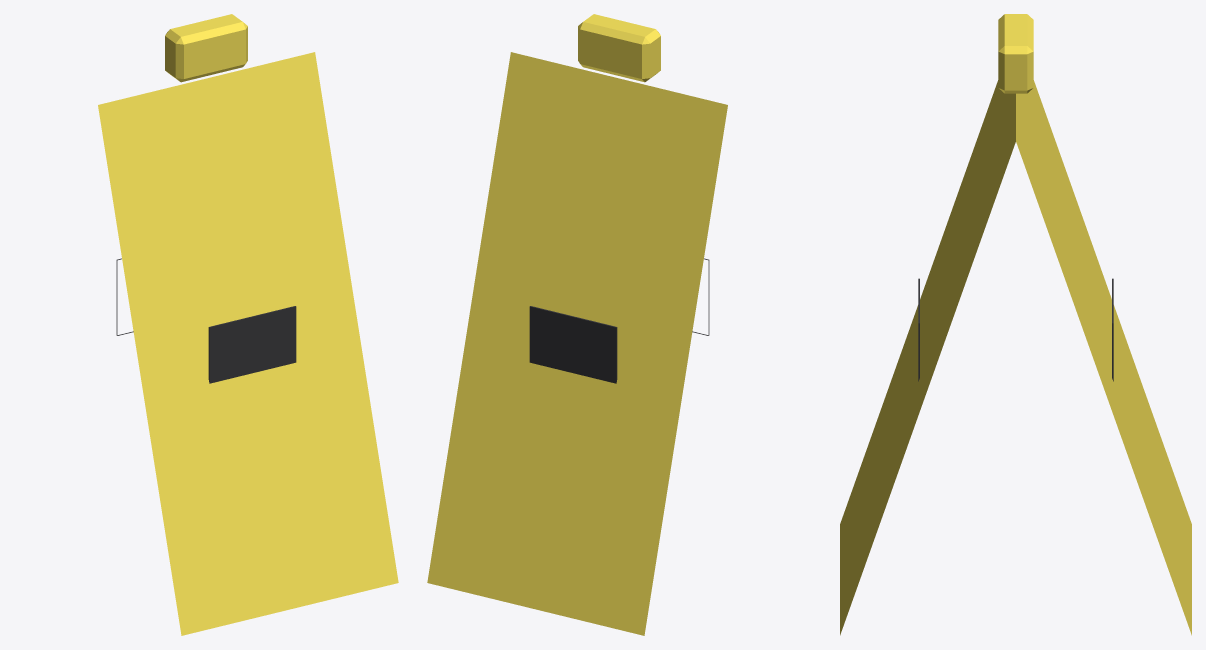
File: wet_floor_sign.glb
3 views of the same model, side by side, from view 1: azimuth 30°, elevation 25°; view 2: azimuth 150°, elevation 25°; view 3: azimuth 270°, elevation 25° (orthographic). The views are drawn at different scales.
Parts seen in each view (by area): view 1: wet_floor_sign; view 2: wet_floor_sign; view 3: wet_floor_sign.
Boxes of the visible parts, <box> form: wet_floor_sign: <box>98,14,398,635</box>; wet_floor_sign: <box>427,14,727,635</box>; wet_floor_sign: <box>840,14,1191,635</box>.
Bounding box in the file's own units: 0.3 × 0.69 × 0.4.
